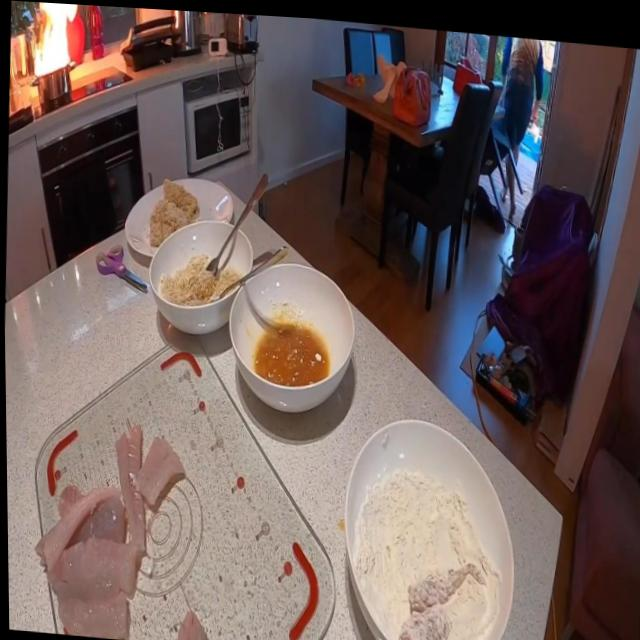fire: (31, 1, 81, 82)
